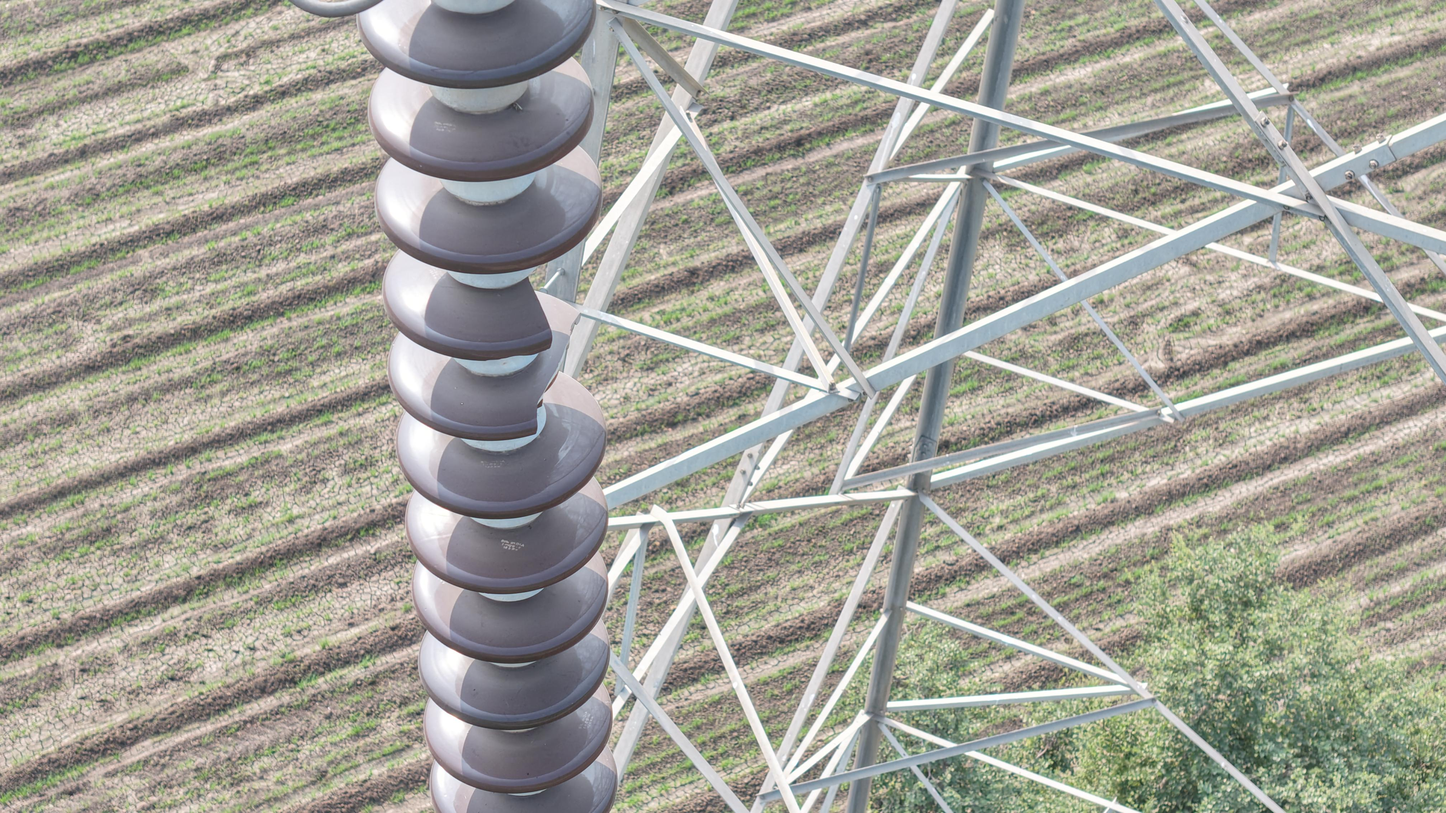broken_insulator: (350, 321, 596, 448), (362, 264, 596, 367)
